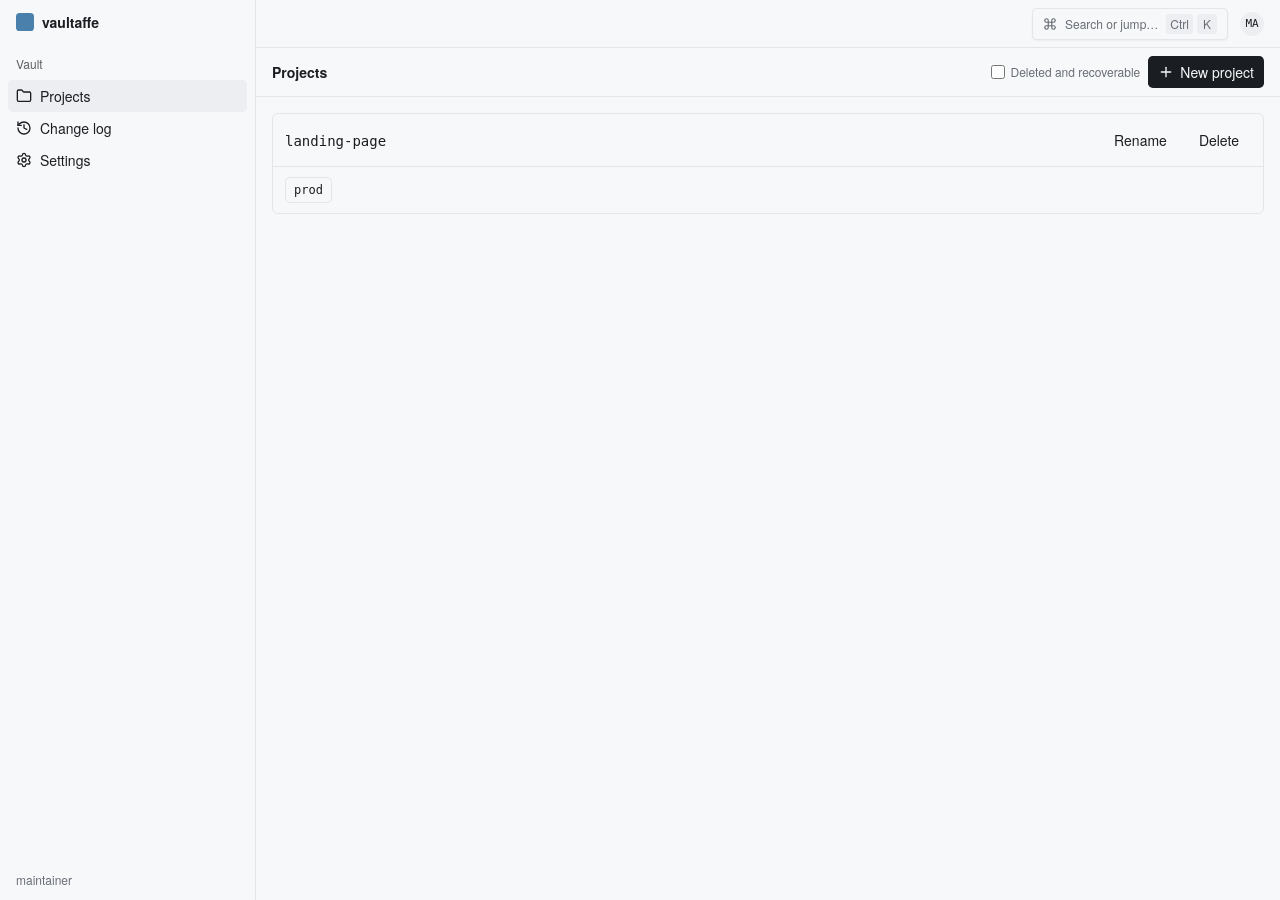
Test: the projects › says what is kept and for how long before deleting one
Step 1. Click the button "Delete" → point(1219, 140), box [1187,124,1251,156]
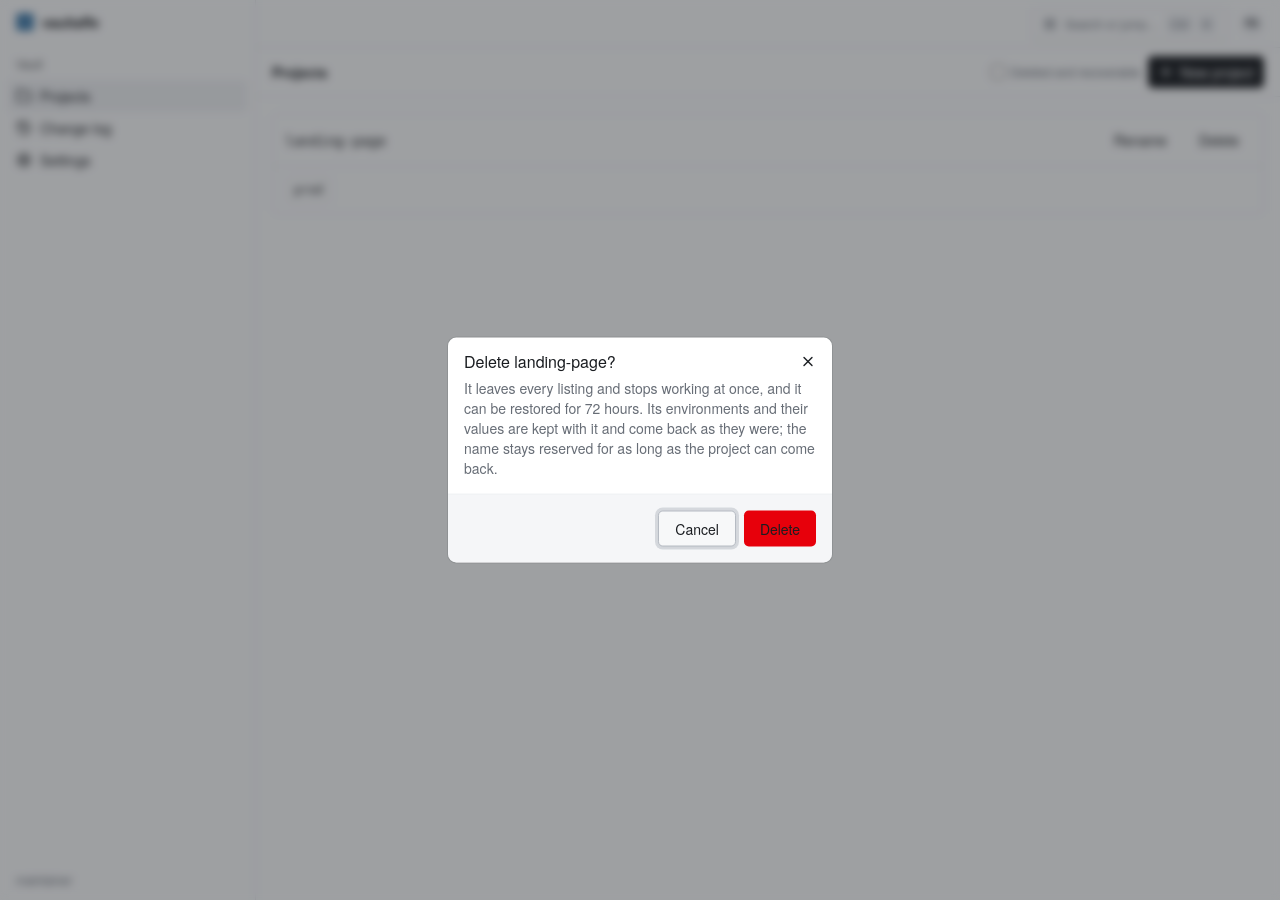
Expected: the text "restored for 72 hours" is shown, [464,378,815,478]
